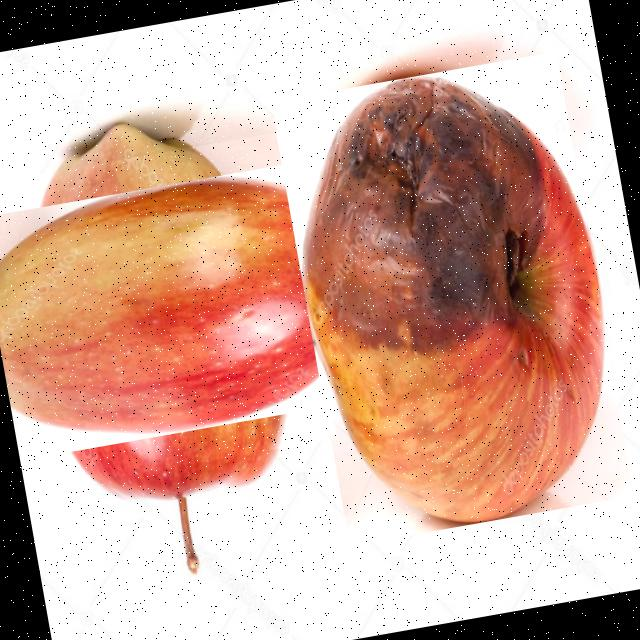Fresh Apple: (0, 130, 337, 493)
Rotten Apple: (271, 49, 635, 546)
